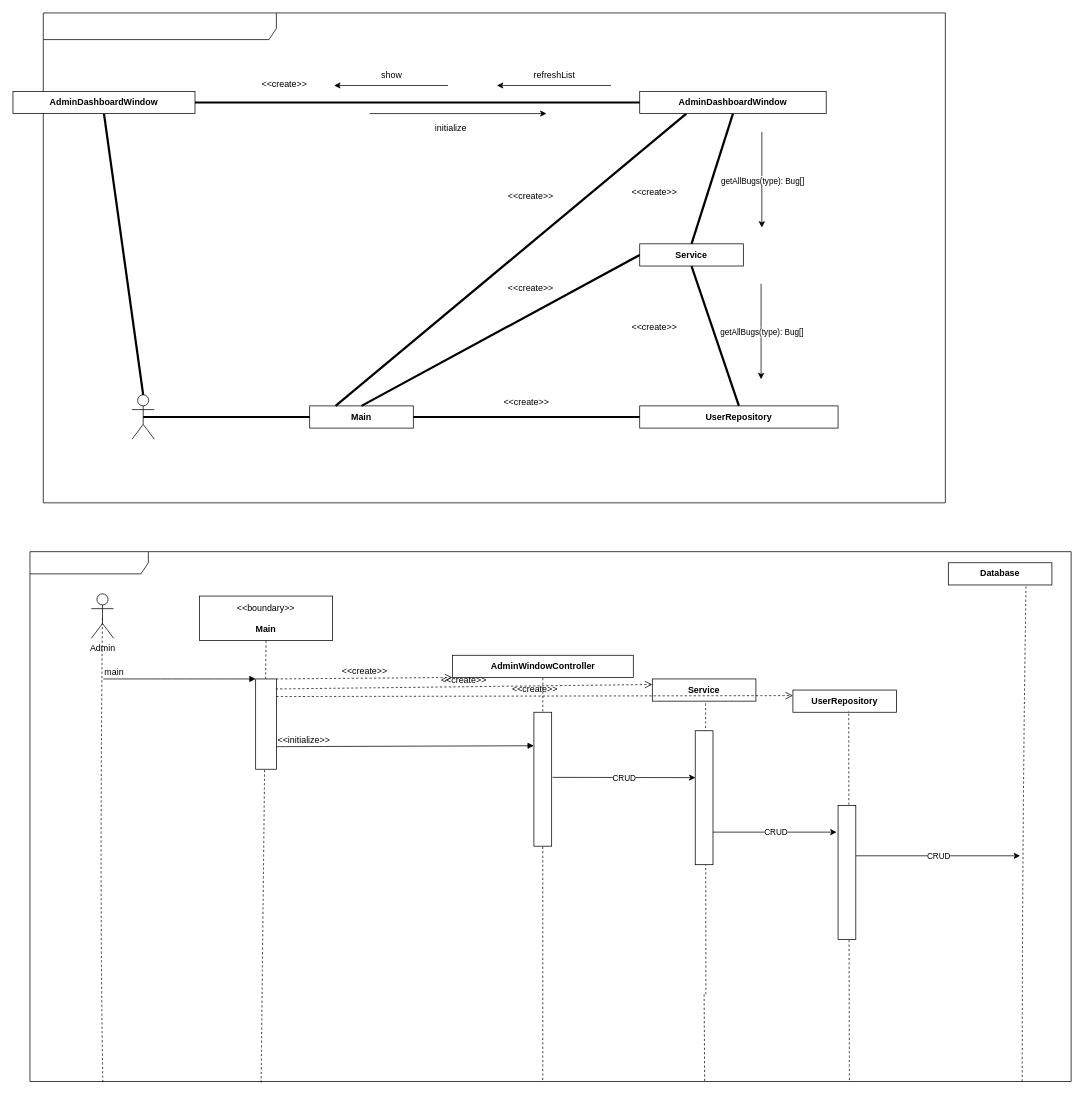
This 1084x1096 diagram has some shape labels left out. The shapes that lost their labels are listed below. From the top down, each one's box as (x1, y1, x2, y2) in pixels, then its label:
(43, 12, 945, 503): Communication ViewUserList
(131, 394, 154, 439): Tester/Programmer
(29, 551, 1071, 1082): SetBugAsTaken/Done
